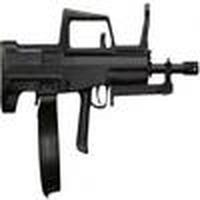gun: (1, 28, 200, 140)
